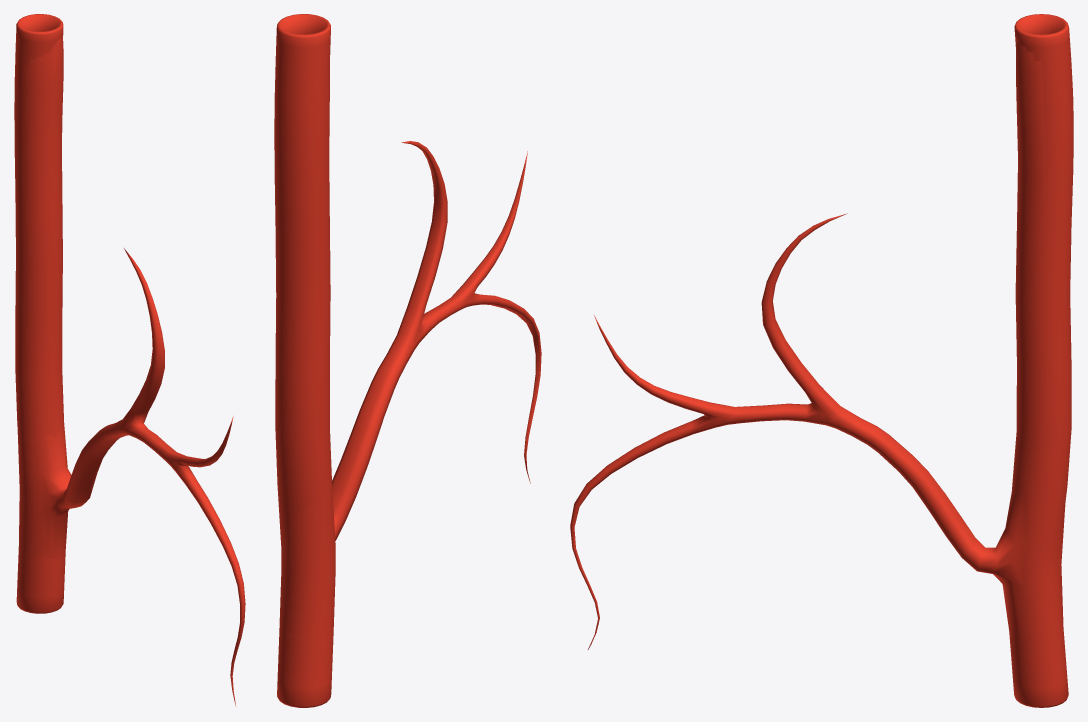
File: RedVein.fbx
The picture shows the model from 3 angles, left to right: view 1: azimuth 30°, elevation 25°; view 2: azimuth 150°, elevation 25°; view 3: azimuth 270°, elevation 25°; orthographic projection. The views are drawn at different scales.
Parts seen in each view (by area): view 1: pPipe4; view 2: pPipe4; view 3: pPipe4.
Part boxes in pixels (x1=…): pPipe4: x1=14, y1=14, x2=245, y2=705; pPipe4: x1=274, y1=14, x2=541, y2=707; pPipe4: x1=570, y1=14, x2=1073, y2=707.
Size of the model in its own units: 0.3499 by 4.75 by 3.22.
